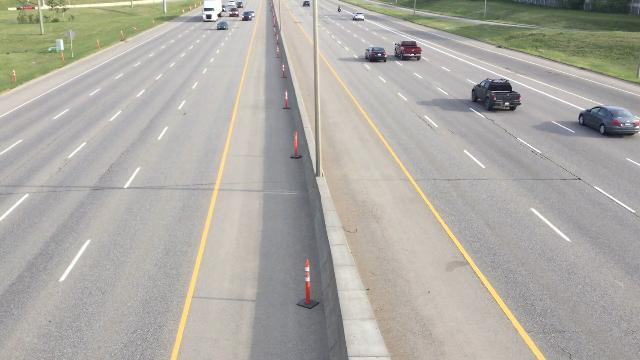car: (577, 104, 639, 138), (470, 77, 522, 113), (393, 38, 422, 61), (363, 46, 388, 64), (352, 11, 366, 22), (227, 7, 241, 17), (241, 11, 253, 21), (217, 21, 228, 31)
motorcycle: (336, 4, 343, 14)
truck: (201, 0, 222, 22)
